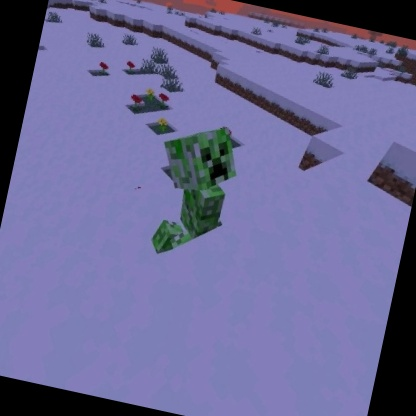creeper: (139, 113, 249, 268)
